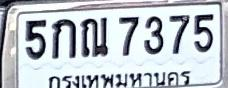3: (144, 14, 164, 54)
5: (25, 19, 46, 60), (194, 14, 214, 52)
7: (168, 14, 190, 54), (118, 16, 139, 56)
A01: (51, 18, 76, 59)
A19: (81, 16, 108, 57)
BKK: (46, 69, 194, 88)
